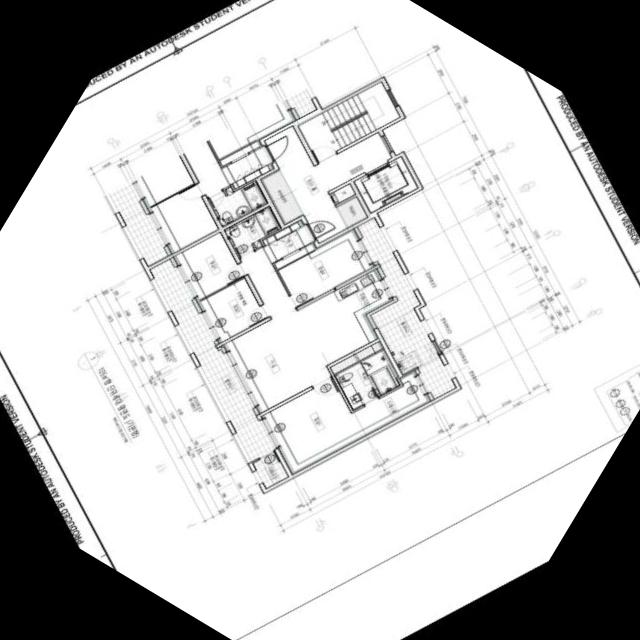background: (0, 0, 640, 640)
space_balconi: (150, 259, 275, 462), (357, 218, 455, 399)
space_bedroom: (263, 379, 362, 472), (278, 232, 370, 307), (176, 233, 243, 300), (200, 279, 265, 342)
space_dressroom: (351, 374, 427, 436)
space_elevator_hall: (264, 127, 407, 243)
space_front: (262, 222, 314, 263)
space_kitchen: (296, 271, 388, 366)
space_living_room: (225, 248, 330, 413)
space_other: (262, 171, 302, 223), (330, 343, 380, 374), (253, 452, 287, 489), (336, 197, 367, 228), (274, 245, 314, 269), (333, 184, 355, 203)
space_staircase: (298, 82, 399, 161)
space_toilet: (335, 351, 398, 409), (224, 207, 280, 260)
